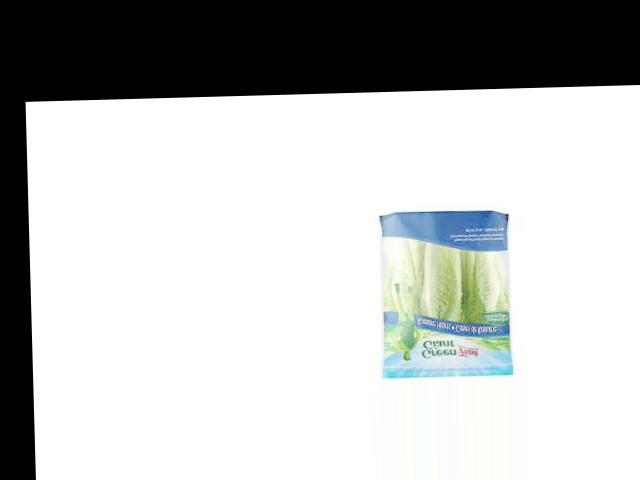lettuce: (372, 208, 515, 372)
